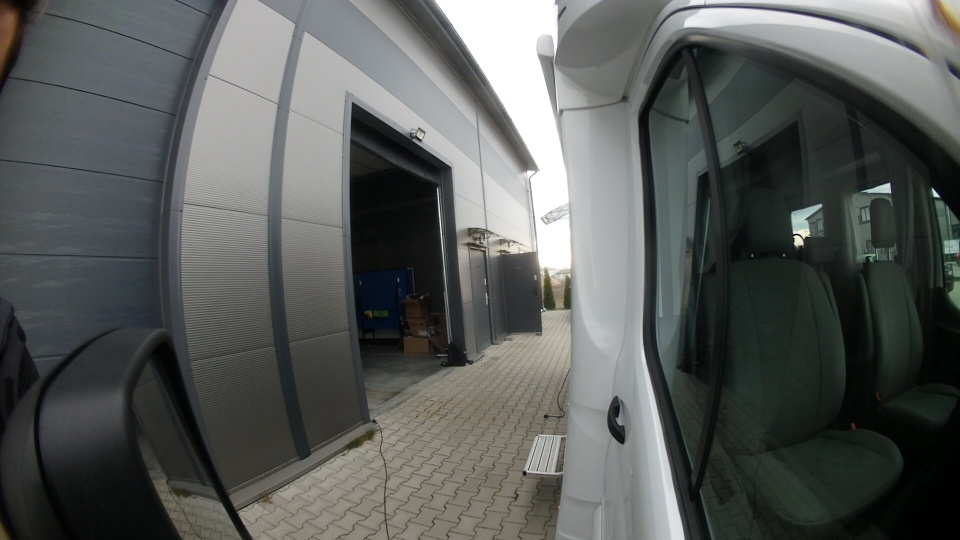step_front: (518, 427, 566, 486)
window_front: (539, 194, 573, 236)
